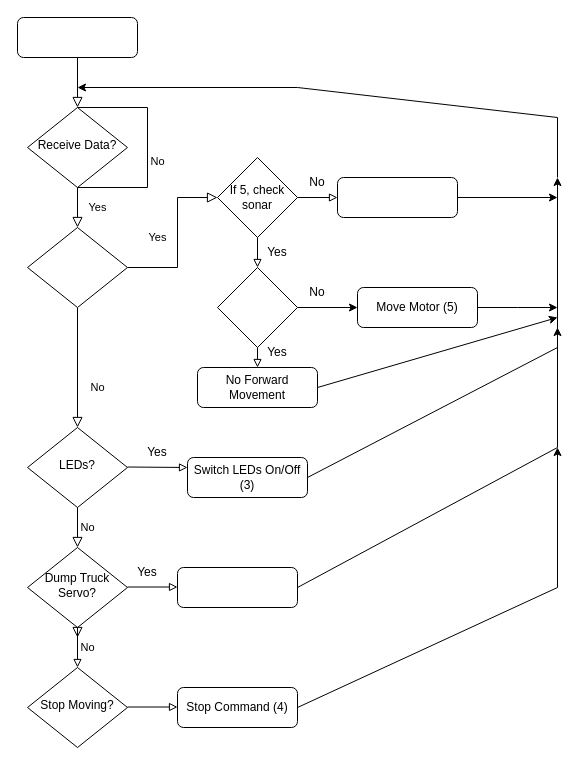
Some shapes in this 583 by 765 pixel diagram are drawn without their labels. Here are the shapes that lost their labels. From the top down, the box of each, then its label:
(16, 16, 138, 58): Start UART
(336, 176, 458, 218): Move Motor (6 - 8)
(26, 226, 128, 308): Motor Movement?
(216, 266, 298, 348): Less than 200 mm?
(176, 566, 298, 608): Move Dump Bed (1 - 2)
